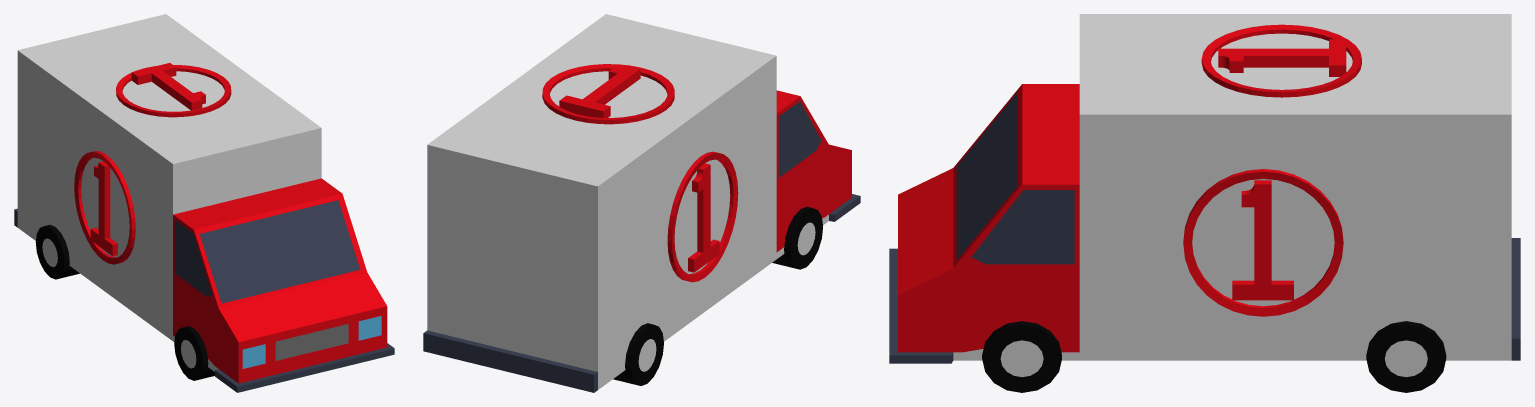
The model's file is TruckLv1.fbx.
3 renders of one model, left to right at view 1: azimuth 30°, elevation 25°; view 2: azimuth 150°, elevation 25°; view 3: azimuth 270°, elevation 25°, orthographic. The views are drawn at different scales.
Visible parts, largest first — view 1: Truck, Cylinder, Cylinder.001, Cube.001, Cube; view 2: Truck, Cylinder, Cylinder.001, Cube.001, Cube; view 3: Truck, Cylinder.002, Cube.002, Cylinder.001, Cube.001.
Boxes of the visible parts, <box> form: Truck: <box>14,14,394,392</box>; Cylinder: <box>74,151,135,264</box>; Cylinder.001: <box>116,65,231,117</box>; Cube.001: <box>131,63,205,110</box>; Cube: <box>90,161,117,256</box>; Truck: <box>423,14,860,392</box>; Cylinder: <box>667,151,738,282</box>; Cylinder.001: <box>542,64,674,124</box>; Cube.001: <box>559,66,640,117</box>; Cube: <box>688,163,719,272</box>; Truck: <box>889,14,1520,392</box>; Cylinder.002: <box>1183,169,1343,316</box>; Cube.002: <box>1232,180,1293,300</box>; Cylinder.001: <box>1201,24,1361,97</box>; Cube.001: <box>1218,39,1346,76</box>.
Size of the model in its own units: 199 by 246 by 492.
